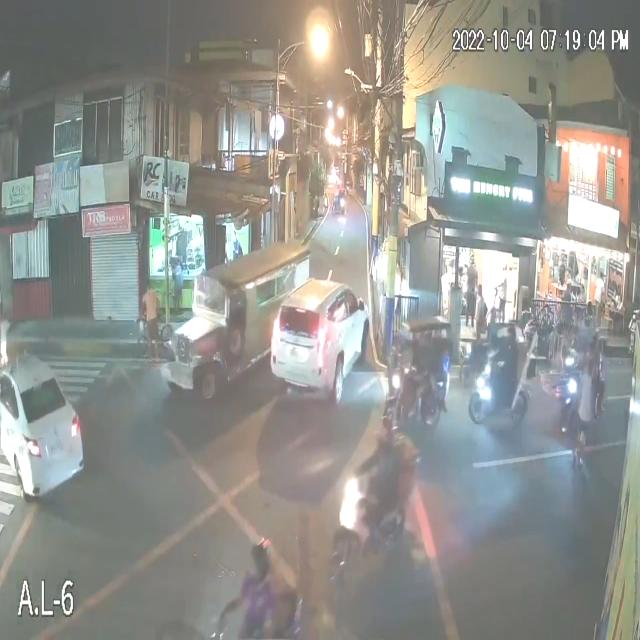Full-Faced: (375, 410, 394, 451)
Not-Wearing-Helmet: (242, 536, 270, 586)
